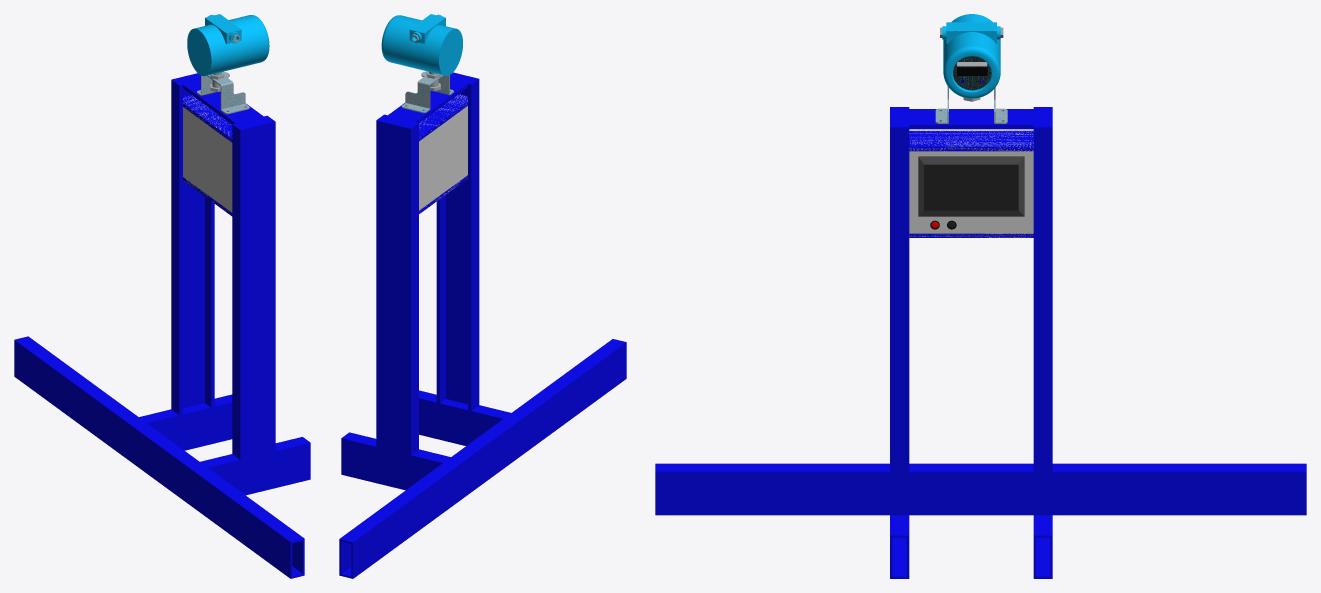
The model's file is Bunker Device Tanpa Flow Meter.dae.
3 views of the same model, side by side, from view 1: azimuth 30°, elevation 25°; view 2: azimuth 150°, elevation 25°; view 3: azimuth 270°, elevation 25° (orthographic). The views are drawn at different scales.
Visible parts, largest first — view 1: group_11, group_13, group_6, group_14, group_8, group_2, group_12, group_7, group_4, group_10; view 2: group_6, group_13, group_11, group_12, group_8, group_2, group_14, group_7, group_4, group_10; view 3: group_13, group_8 (×3), group_6, group_11, group_10, group_7, group_2.
Part boxes in pixels (x1,y1,x2,y2): group_11: [232, 115, 275, 459]; group_13: [14, 336, 304, 578]; group_6: [171, 73, 214, 414]; group_14: [200, 437, 310, 495]; group_8: [183, 107, 232, 212]; group_2: [187, 15, 269, 76]; group_12: [139, 394, 232, 450]; group_7: [177, 74, 269, 127]; group_4: [197, 75, 249, 114]; group_10: [183, 95, 232, 142]; group_6: [376, 114, 418, 454]; group_13: [339, 339, 626, 578]; group_11: [436, 72, 479, 410]; group_12: [341, 432, 450, 490]; group_8: [419, 106, 467, 210]; group_2: [381, 15, 462, 75]; group_14: [419, 390, 510, 445]; group_7: [382, 74, 473, 126]; group_4: [401, 74, 453, 113]; group_10: [419, 94, 467, 141]; group_13: [655, 463, 1306, 515]; group_8 (×3): [909, 151, 1033, 233]; group_6: [1033, 107, 1052, 515]; group_11: [890, 107, 909, 515]; group_10: [909, 130, 1033, 151]; group_7: [894, 109, 1047, 129]; group_2: [943, 14, 1000, 98].
Bounding box in the file's own units: 13.38 × 53.54 × 47.37.
